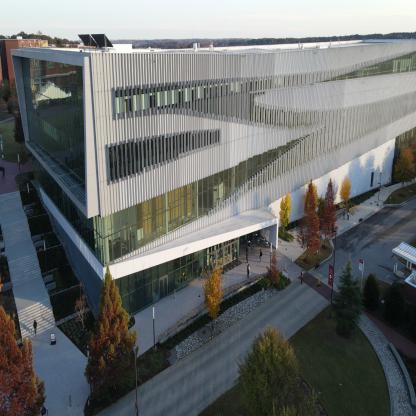Hunt Library: (5, 20, 415, 339)
